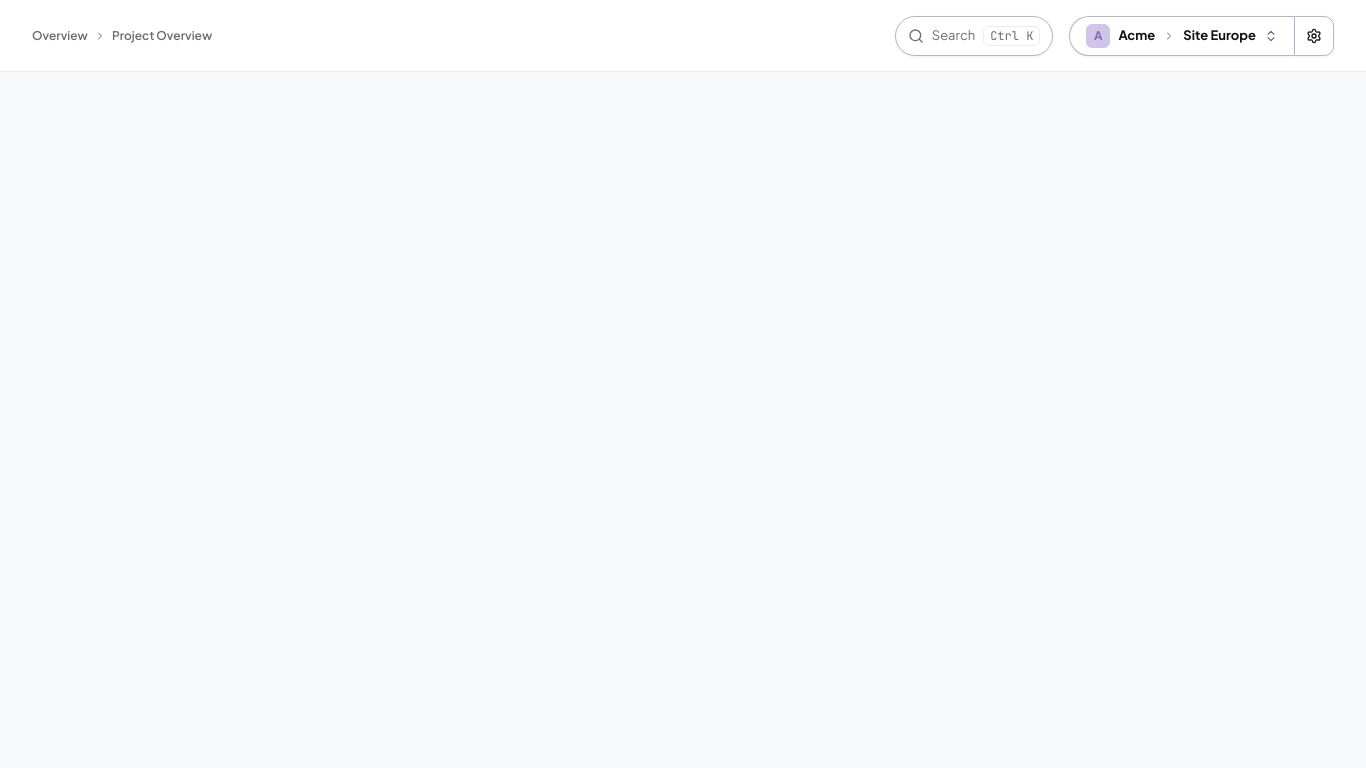
Test: is discoverable without the shortcut: a visible control opens the same box
The image size is (1366, 768).
Check: the text "Site Europe" is shown, box [1183, 26, 1256, 45]
Click the button with aria-label "search and jump to".
click(974, 36)  # box [895, 16, 1053, 56]
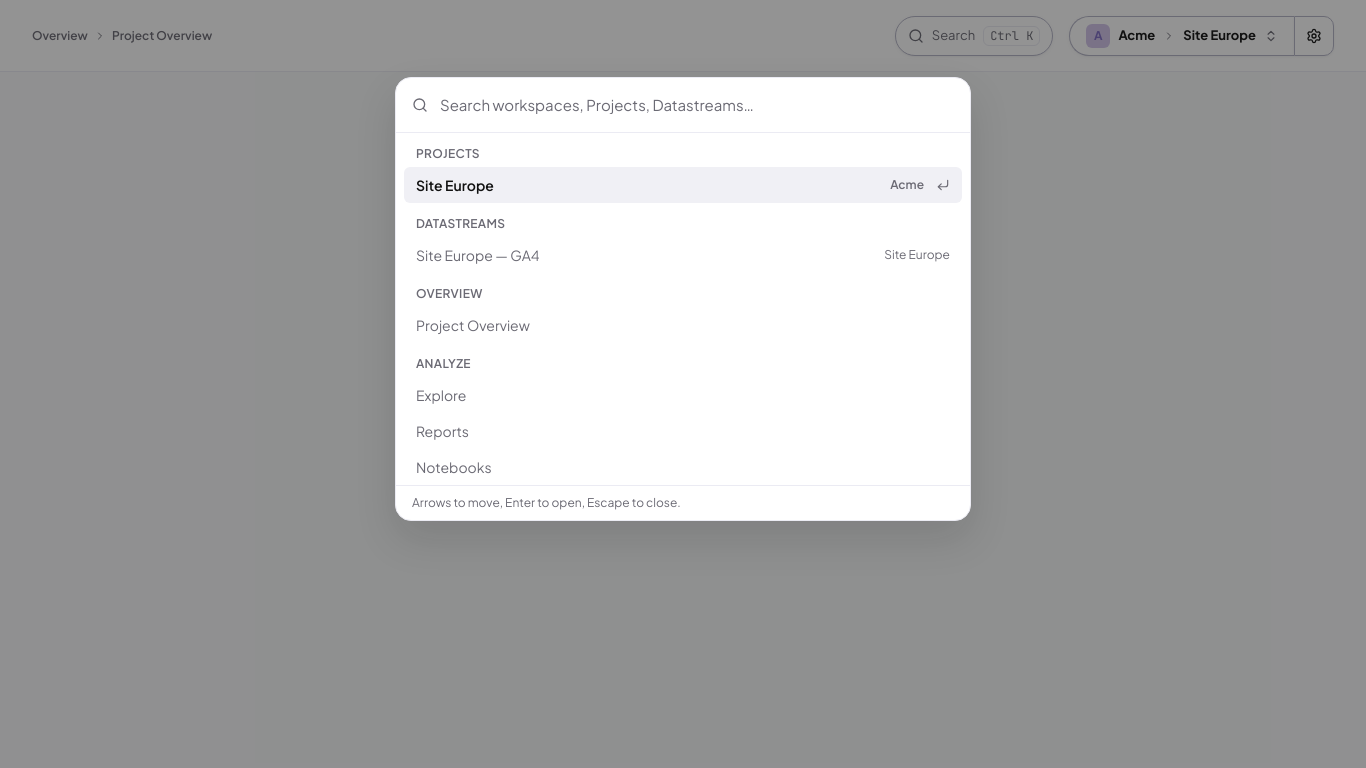
Check: the dialog named "search and jump to" is shown, box [395, 77, 971, 521]
Check: the option "Site Europe — GA4 Site Europe" is shown, box [404, 237, 962, 273]
